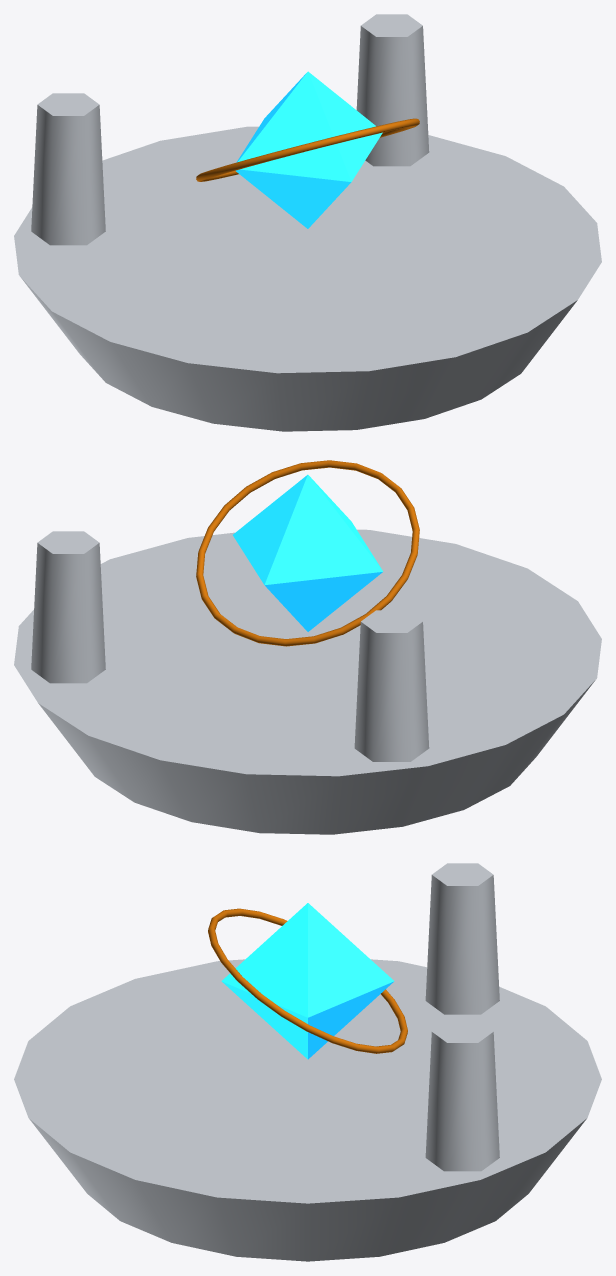
Rendered from ica_01.glb.
3 renders of one model, top to bottom at view 1: azimuth 30°, elevation 25°; view 2: azimuth 150°, elevation 25°; view 3: azimuth 270°, elevation 25°, orthographic.
Visible parts, largest first — view 1: scenario_tile_round_floor, ICA_01, icarus_aetherite_monolith; view 2: scenario_tile_round_floor, ICA_01, icarus_aetherite_monolith; view 3: scenario_tile_round_floor, ICA_01, icarus_aetherite_monolith.
Boxes of the visible parts, bbox=[...] form: scenario_tile_round_floor: bbox=[14, 126, 601, 431]; ICA_01: bbox=[31, 14, 429, 245]; icarus_aetherite_monolith: bbox=[196, 71, 419, 228]; scenario_tile_round_floor: bbox=[14, 529, 601, 834]; ICA_01: bbox=[31, 531, 429, 761]; icarus_aetherite_monolith: bbox=[196, 460, 419, 646]; scenario_tile_round_floor: bbox=[14, 959, 601, 1261]; ICA_01: bbox=[425, 863, 499, 1171]; icarus_aetherite_monolith: bbox=[208, 903, 407, 1059].
Bounding box in the file's own units: 19 × 9.3 × 19.
